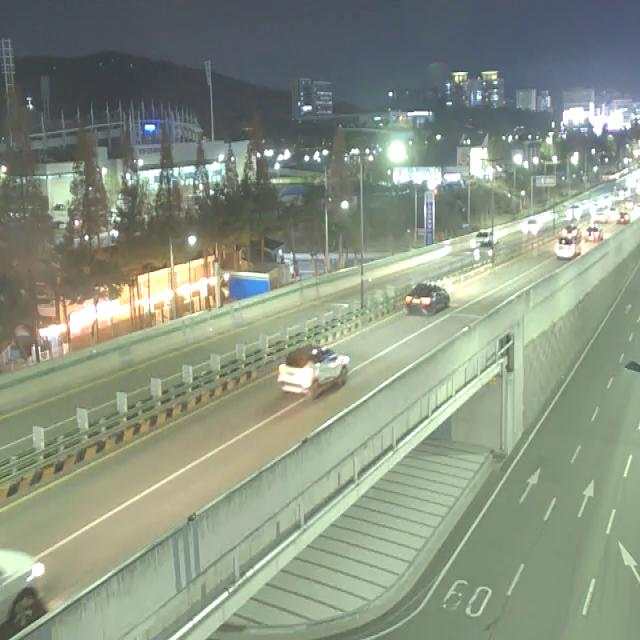Car: (278, 346, 350, 398), (0, 548, 45, 625), (406, 282, 450, 315), (555, 235, 582, 258), (471, 230, 495, 248), (474, 244, 496, 261), (582, 224, 604, 241), (521, 218, 542, 233), (563, 224, 582, 240), (568, 204, 584, 220)
